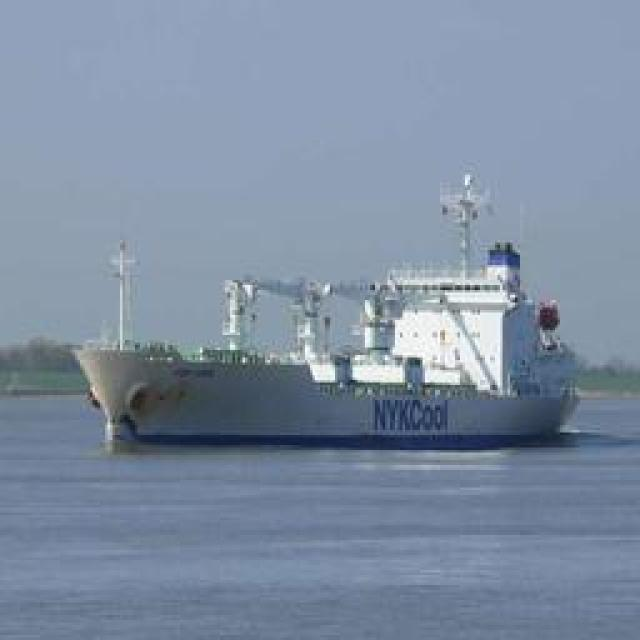ship: (62, 167, 582, 445)
